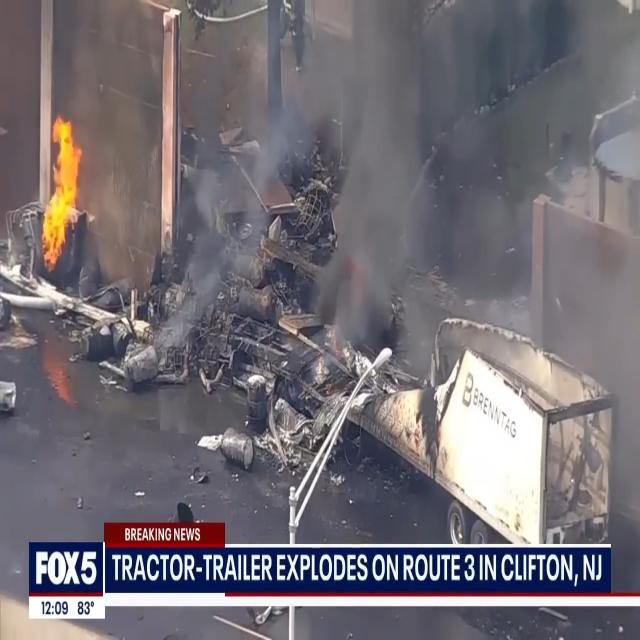fire: (39, 108, 87, 270)
